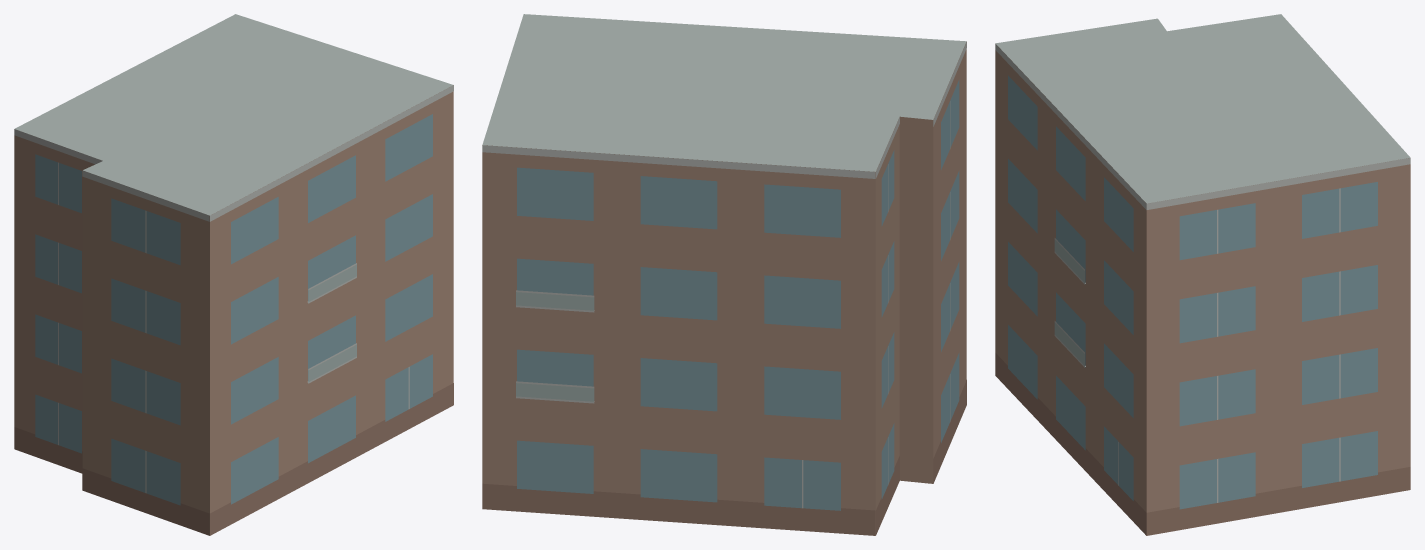
The model's file is survey-upis-32863612.glb.
The picture shows the model from 3 angles, left to right: view 1: azimuth 30°, elevation 25°; view 2: azimuth 150°, elevation 25°; view 3: azimuth 270°, elevation 25°; orthographic projection. The views are drawn at different scales.
Visible parts, largest first — view 1: survey-upis-32863612.tmp; view 2: survey-upis-32863612.tmp; view 3: survey-upis-32863612.tmp.
Part boxes in pixels (left/top/right/bottom): survey-upis-32863612.tmp: left=14, top=14, right=453, bottom=535; survey-upis-32863612.tmp: left=482, top=14, right=966, bottom=535; survey-upis-32863612.tmp: left=995, top=14, right=1410, bottom=535.
Bounding box in the file's own units: 15.19 × 12.4 × 14.06.
